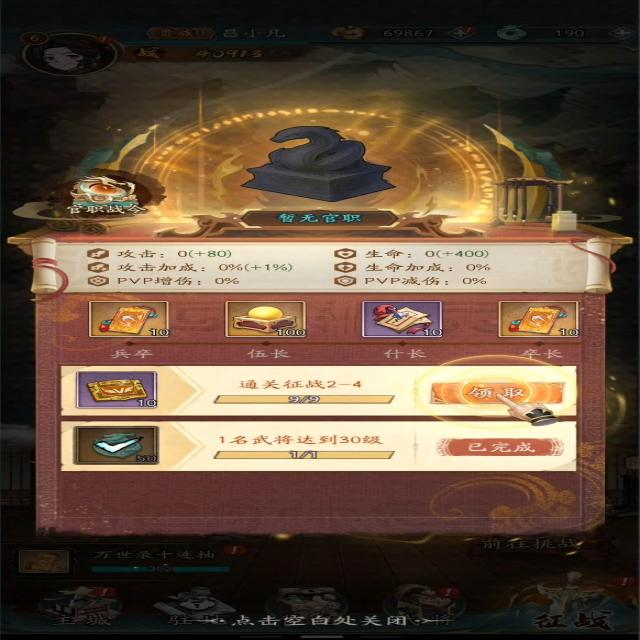hint-guide: (461, 376, 555, 427)
operation-confirm: (426, 382, 568, 406)
operation-confirm-off: (431, 438, 571, 458)
